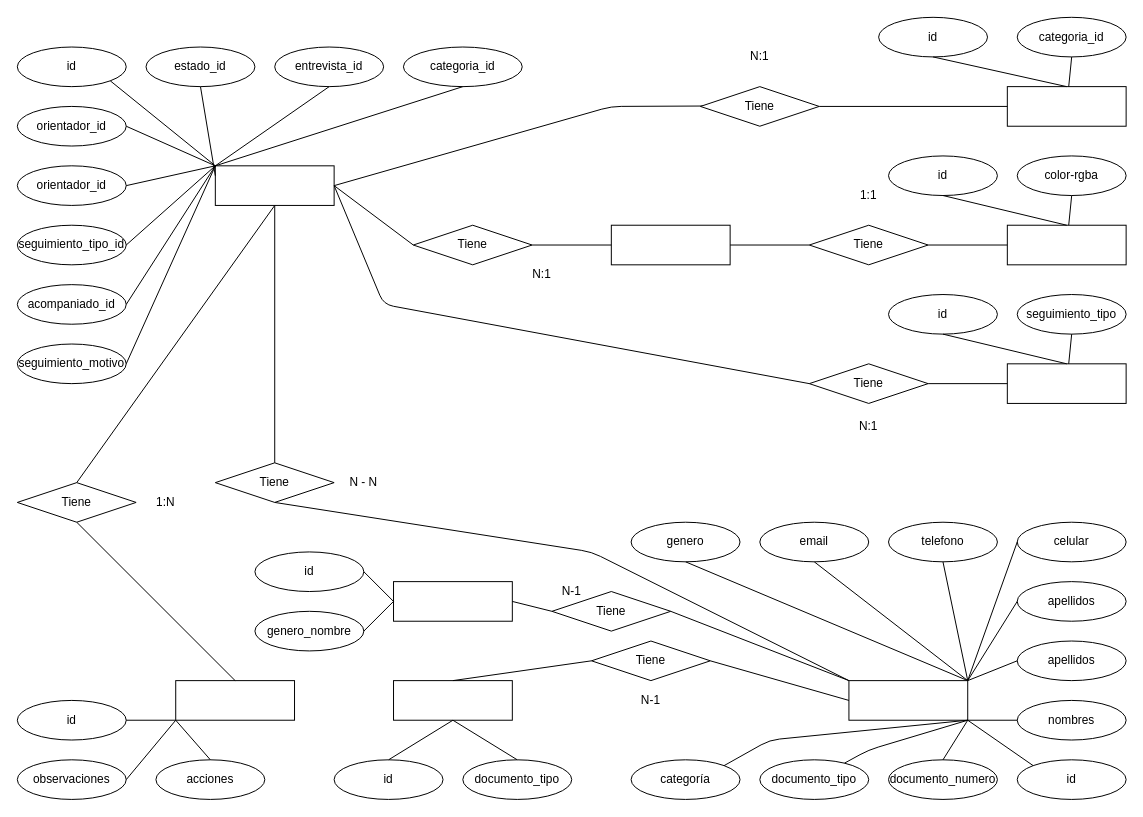
Some shapes in this 1143 by 817 pixel diagram are drawn without their labels. Here are the shapes that lost their labels. From the top down, the box of each, then its label:
(1006, 86, 1126, 126): Categorias
(214, 165, 334, 205): Seguimientos
(610, 224, 730, 265): Estados
(1006, 224, 1126, 265): Colores
(1006, 363, 1126, 403): seguimiento_tipos
(393, 581, 512, 621): géneros
(175, 680, 295, 720): Entrevistas
(393, 680, 512, 720): documento_tipos
(848, 680, 968, 720): Usuarios
